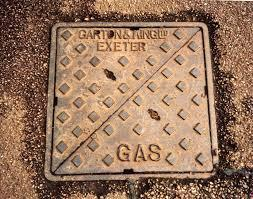closed manhole-not overflowing-: (45, 19, 231, 183)
